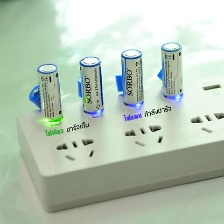battery: (76, 54, 105, 117), (118, 46, 147, 109), (35, 61, 64, 124), (158, 39, 185, 100)
